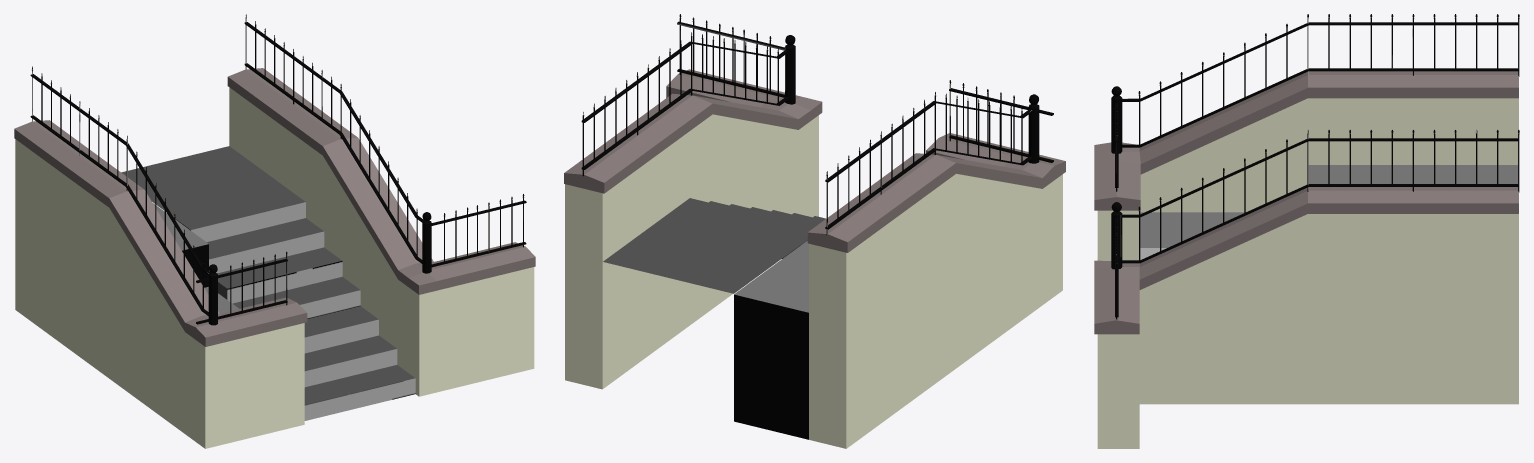
File: Steps.fbx
The picture shows the model from 3 angles, left to right: view 1: azimuth 30°, elevation 25°; view 2: azimuth 150°, elevation 25°; view 3: azimuth 270°, elevation 25°; orthographic projection. The views are drawn at different scales.
Parts seen in each view (by area): view 1: Steps; view 2: Steps; view 3: Steps.
Part boxes in pixels (bbox=[...]): Steps: bbox=[14, 14, 535, 448]; Steps: bbox=[564, 14, 1065, 448]; Steps: bbox=[1094, 14, 1519, 448].
Size of the model in its own units: 301 by 209 by 303.
